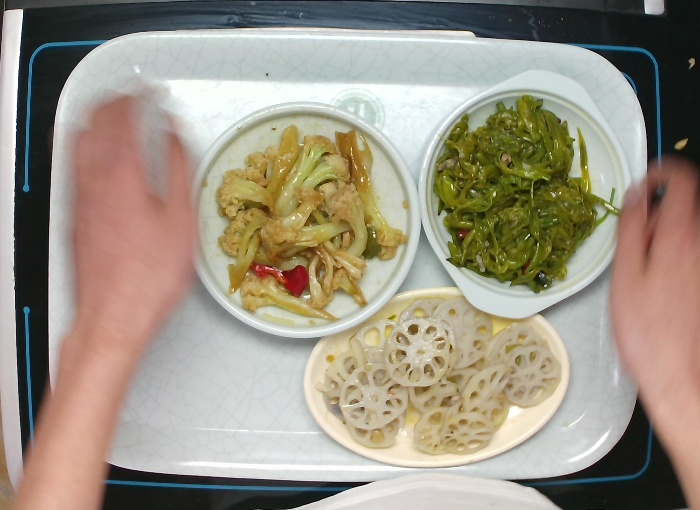JYsf-Shuang_Er_Pan: (415, 65, 638, 324)
JYsf-Tuo_Yuan_Wan: (298, 279, 576, 473)
JYsf-Xiao_Yuan_Pan: (180, 96, 426, 341)
